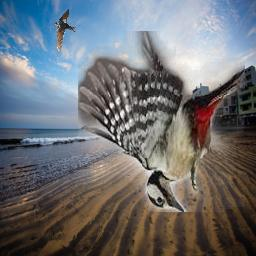Swallow: (54, 8, 76, 52)
Woodpecker: (79, 32, 246, 213)
